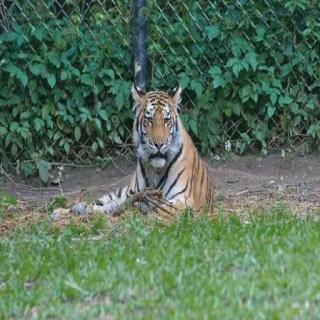Tiger: (73, 77, 228, 234)
